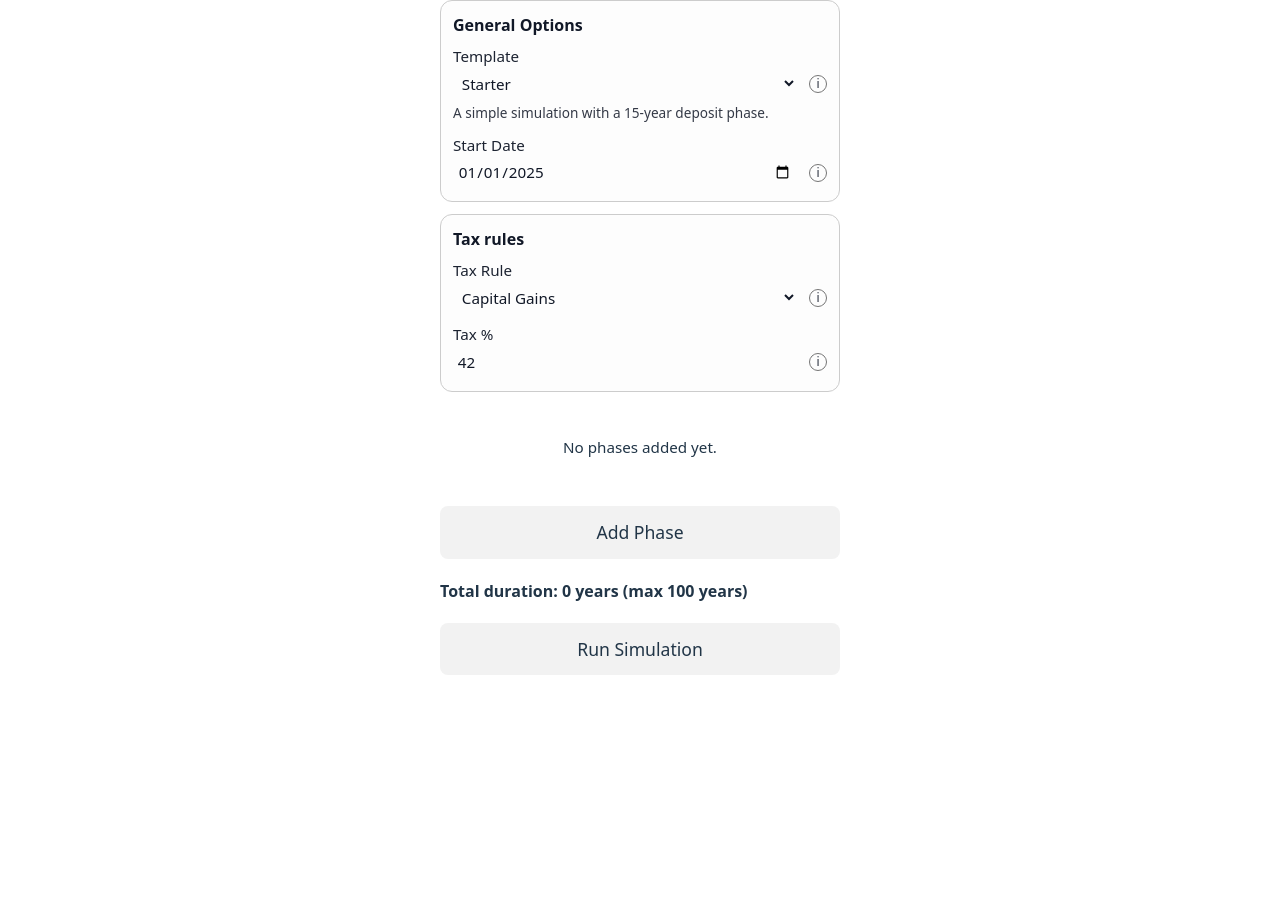
NormalInputForm templates › previews Starter template and applies only after confirmation
The width and height of the screenshot is (1280, 900).
Force a change so we become Custom.
Step 1. Type "2030-01-01" into the date field labelled "Start Date i" → (625, 173), box [453,157,797,189]
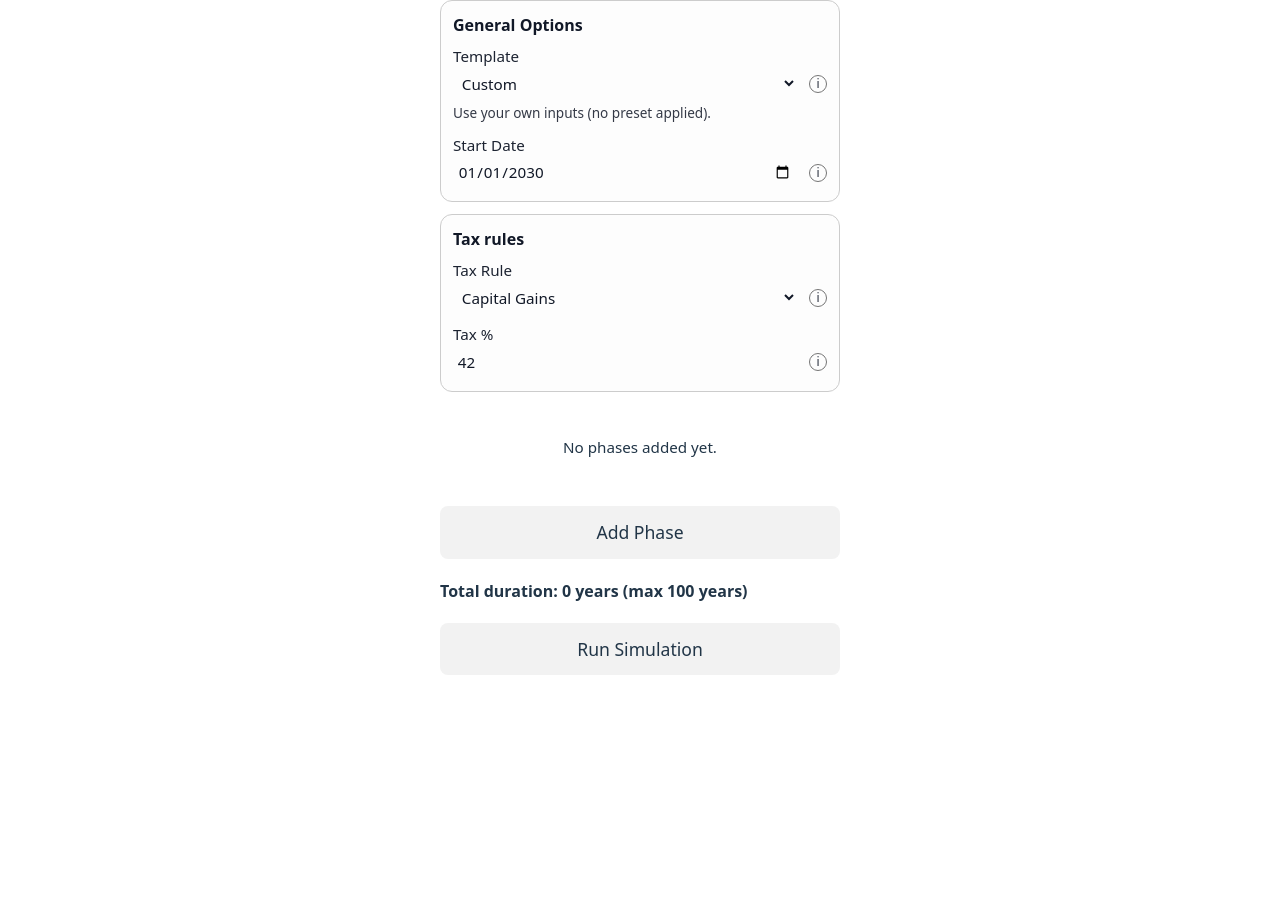
Expected: the dropdown labelled "Template i Use your own inputs (no preset applied)." shows "Custom"
Step 2. Select "Starter" in the dropdown labelled "Template i Use your own inputs (no preset applied)." → (625, 84), box [453,68,797,99]
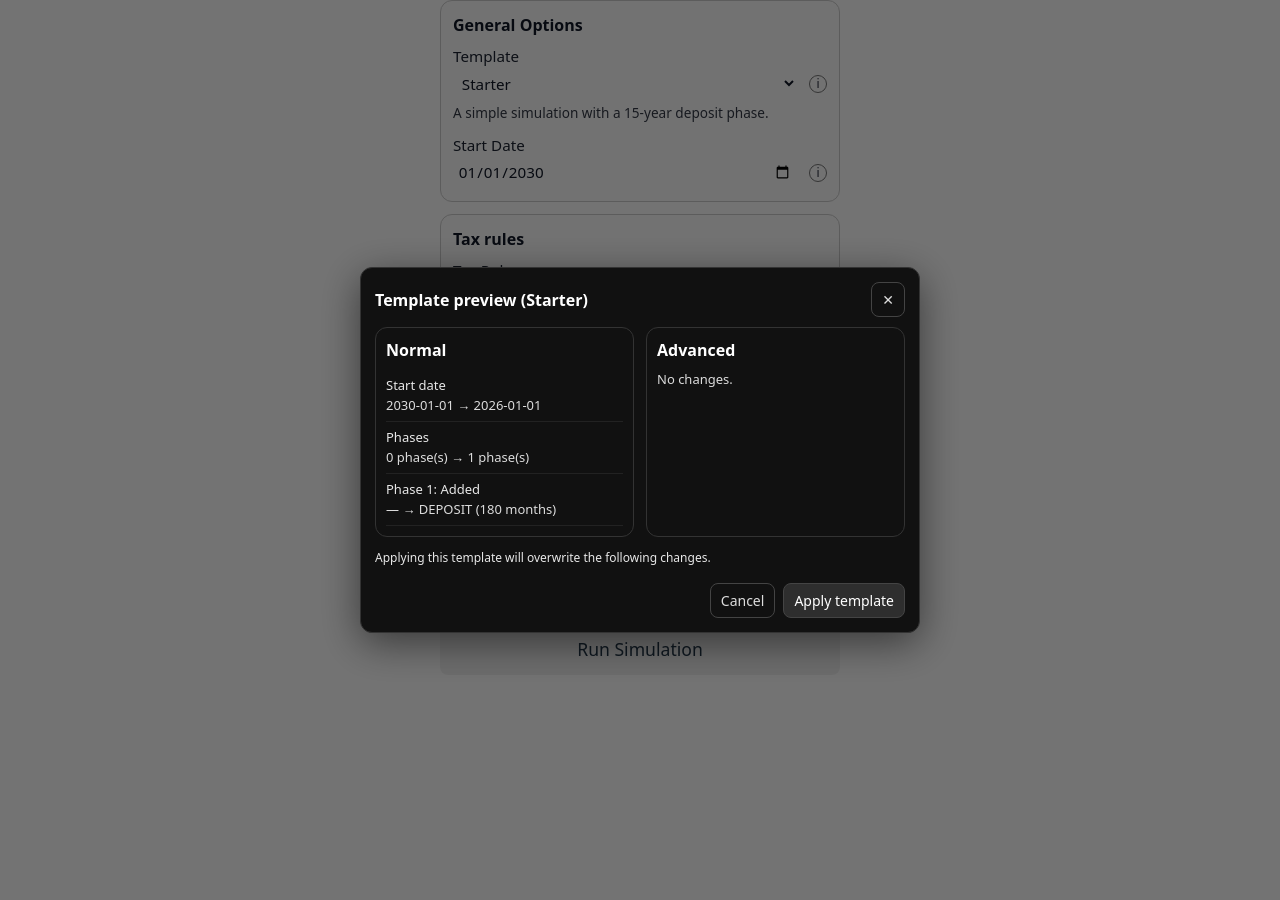
Expected: the dialog "Template preview" is shown
Expected: the text "Applying this template will overwrite the following changes." is shown, [375,549,711,566]
Step 3. Click the button "Apply template" → (844, 600), box [783,583,905,618]
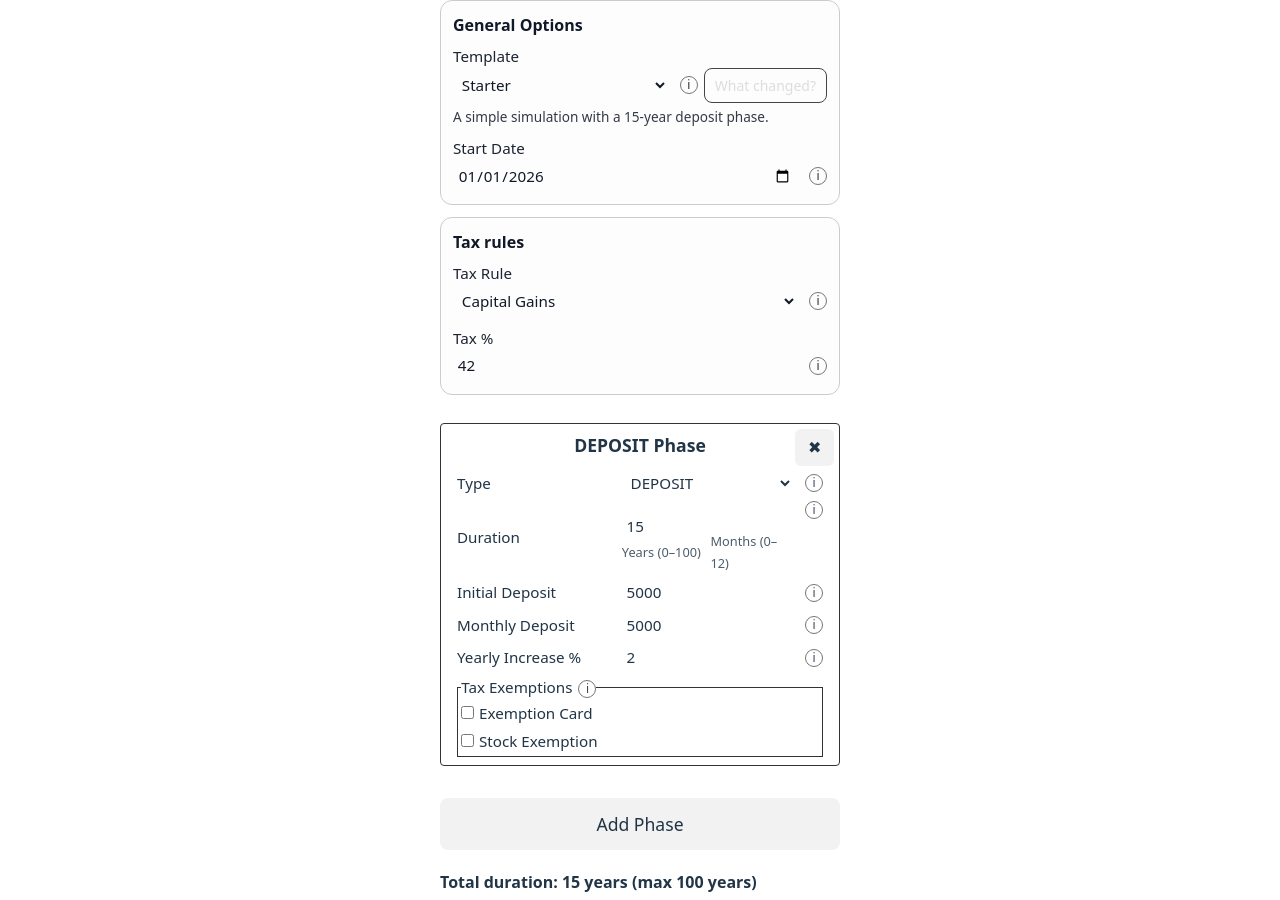
Expected: the text "A simple simulation with a 15-year deposit phase." is shown, [453,107,769,126]
Expected: the date field labelled "Start Date i" holds "2026-01-01", [453,160,797,192]
